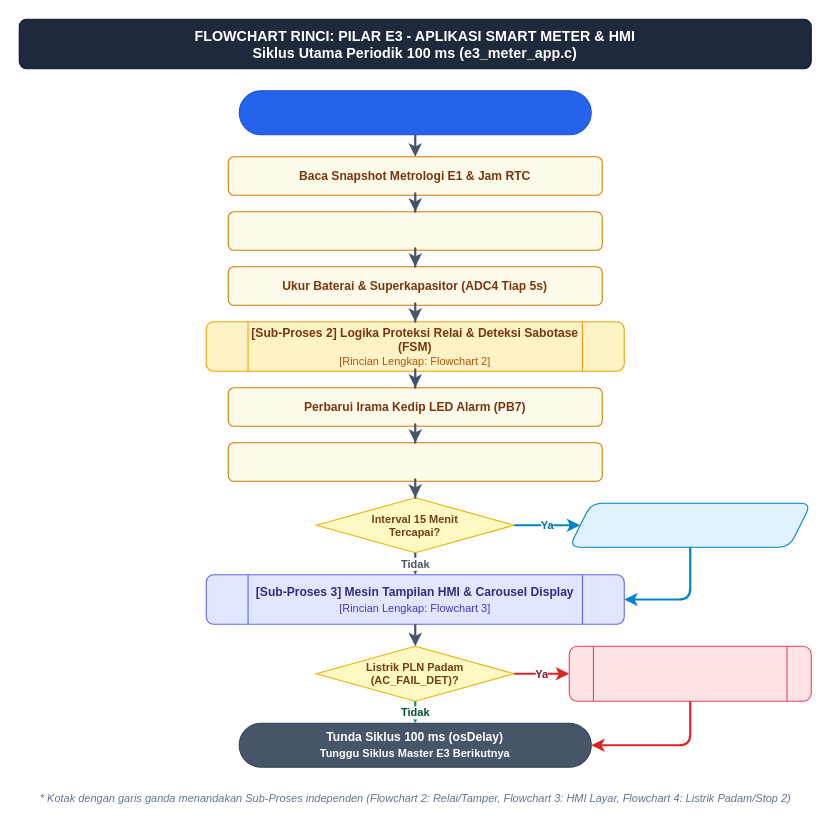
Some shapes in this 831 by 831 pixel diagram are drawn without their labels. The centre of each missing label's shape, as x and y in pixels:
[Sub-Proses 4] Manajemen Listrik Padam & Stop 2 [Rincian Lengkap: Flowchart 4]: the point at 689,673
Hitung Integrasi Maximum Demand (15 Menit): the point at 414,461
Mulai Siklus E3 (100 ms) e3_meter_app_step(&s_meas, delta_ms): the point at 414,112
Tentukan Tarif ToU (WBP / LWBP): the point at 414,230
Tulis Record Profil Beban ke Flash NVRAM: the point at 689,524
